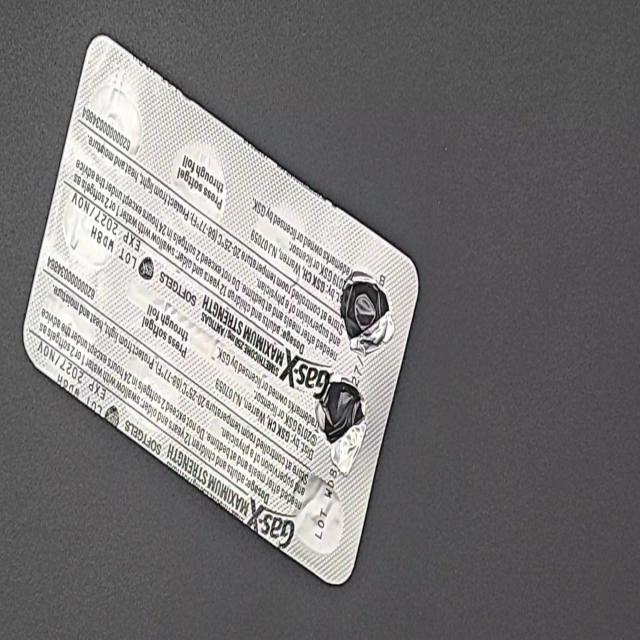defect: (313, 372, 370, 482), (338, 268, 397, 359)
